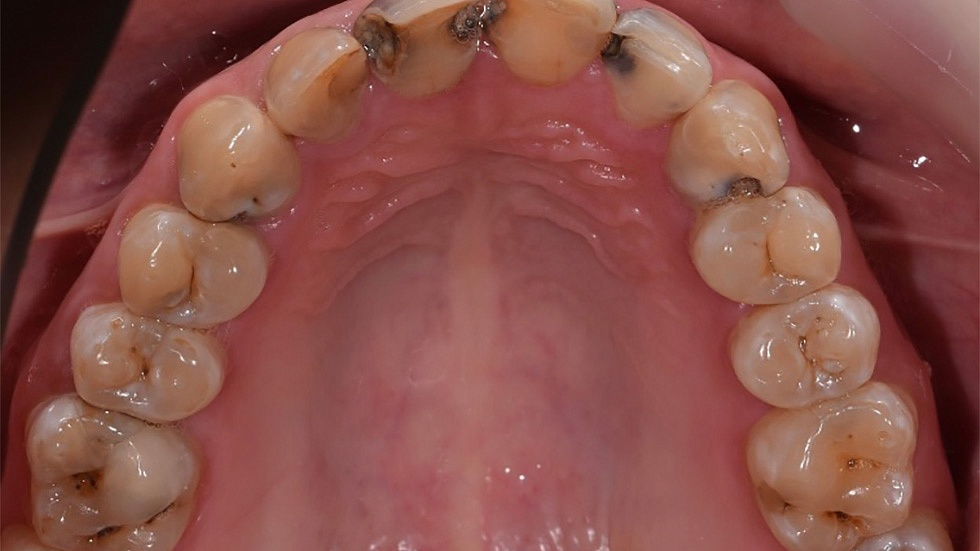UL1BC_decay: (697, 194, 839, 297)
UL1M_decay: (750, 412, 917, 543)
UL2BC_decay: (735, 298, 873, 404)
ULCI_decay: (491, 2, 617, 85)
ULC_decay: (678, 98, 774, 197)
ULLI_decay: (610, 18, 705, 129)
UR1BC_decay: (126, 216, 268, 320)
UR1M_decay: (35, 413, 184, 551)
UR2BC_decay: (69, 311, 236, 416)
URCI_decay: (374, 2, 478, 90)
URC_decay: (178, 103, 303, 213)
URLI_decay: (272, 31, 378, 139)
